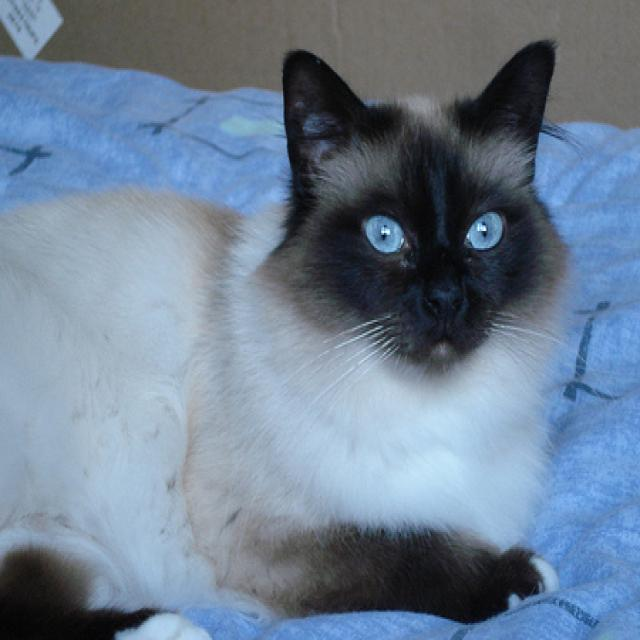Birman: (0, 34, 580, 640)
